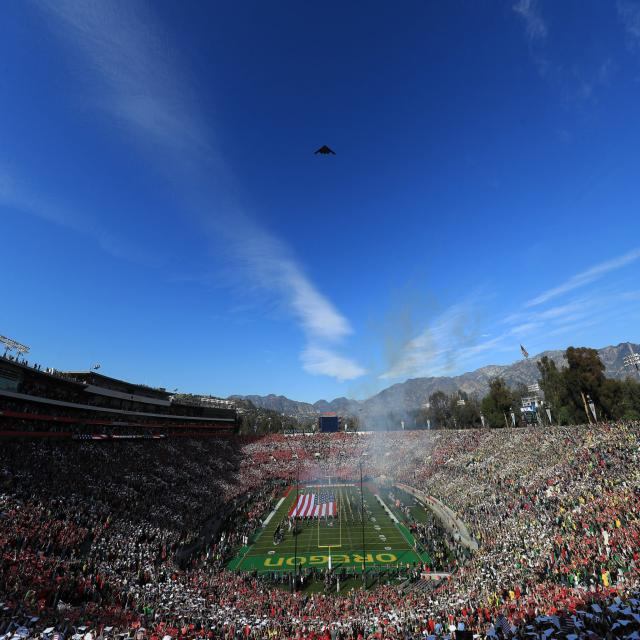MIL_Plane: (320, 132, 330, 142)
